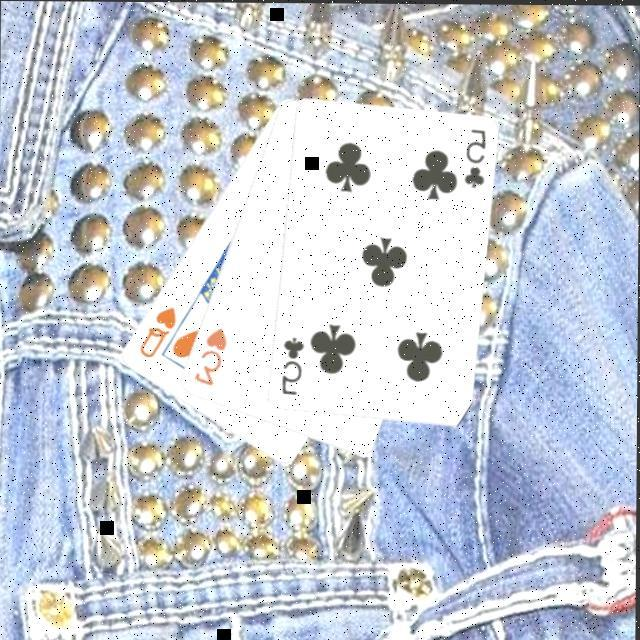3H: (192, 323, 230, 387)
5C: (279, 332, 308, 395), (462, 124, 490, 188)
QH: (136, 301, 179, 359)
